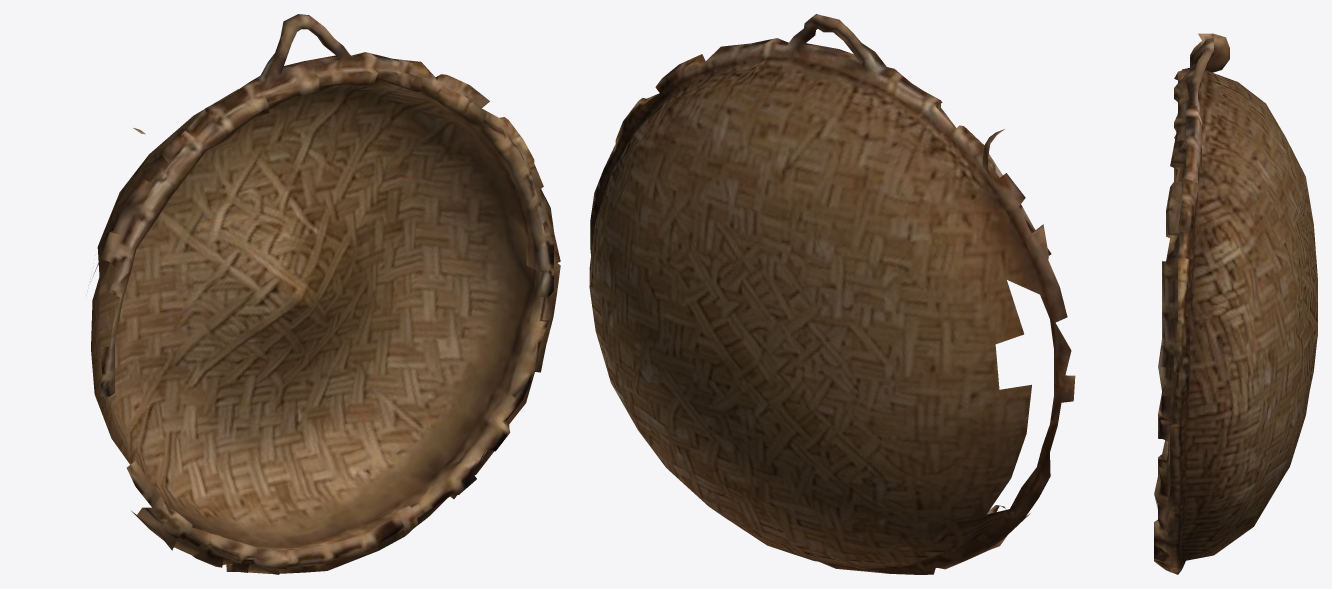
Rendered from met-tre.glb.
3 renders of one model, left to right at view 1: azimuth 30°, elevation 25°; view 2: azimuth 150°, elevation 25°; view 3: azimuth 270°, elevation 25°, orthographic. The views are drawn at different scales.
Bounding box in the file's own units: 0.2754 × 0.2754 × 0.0801.
1 material, 1 textured.
